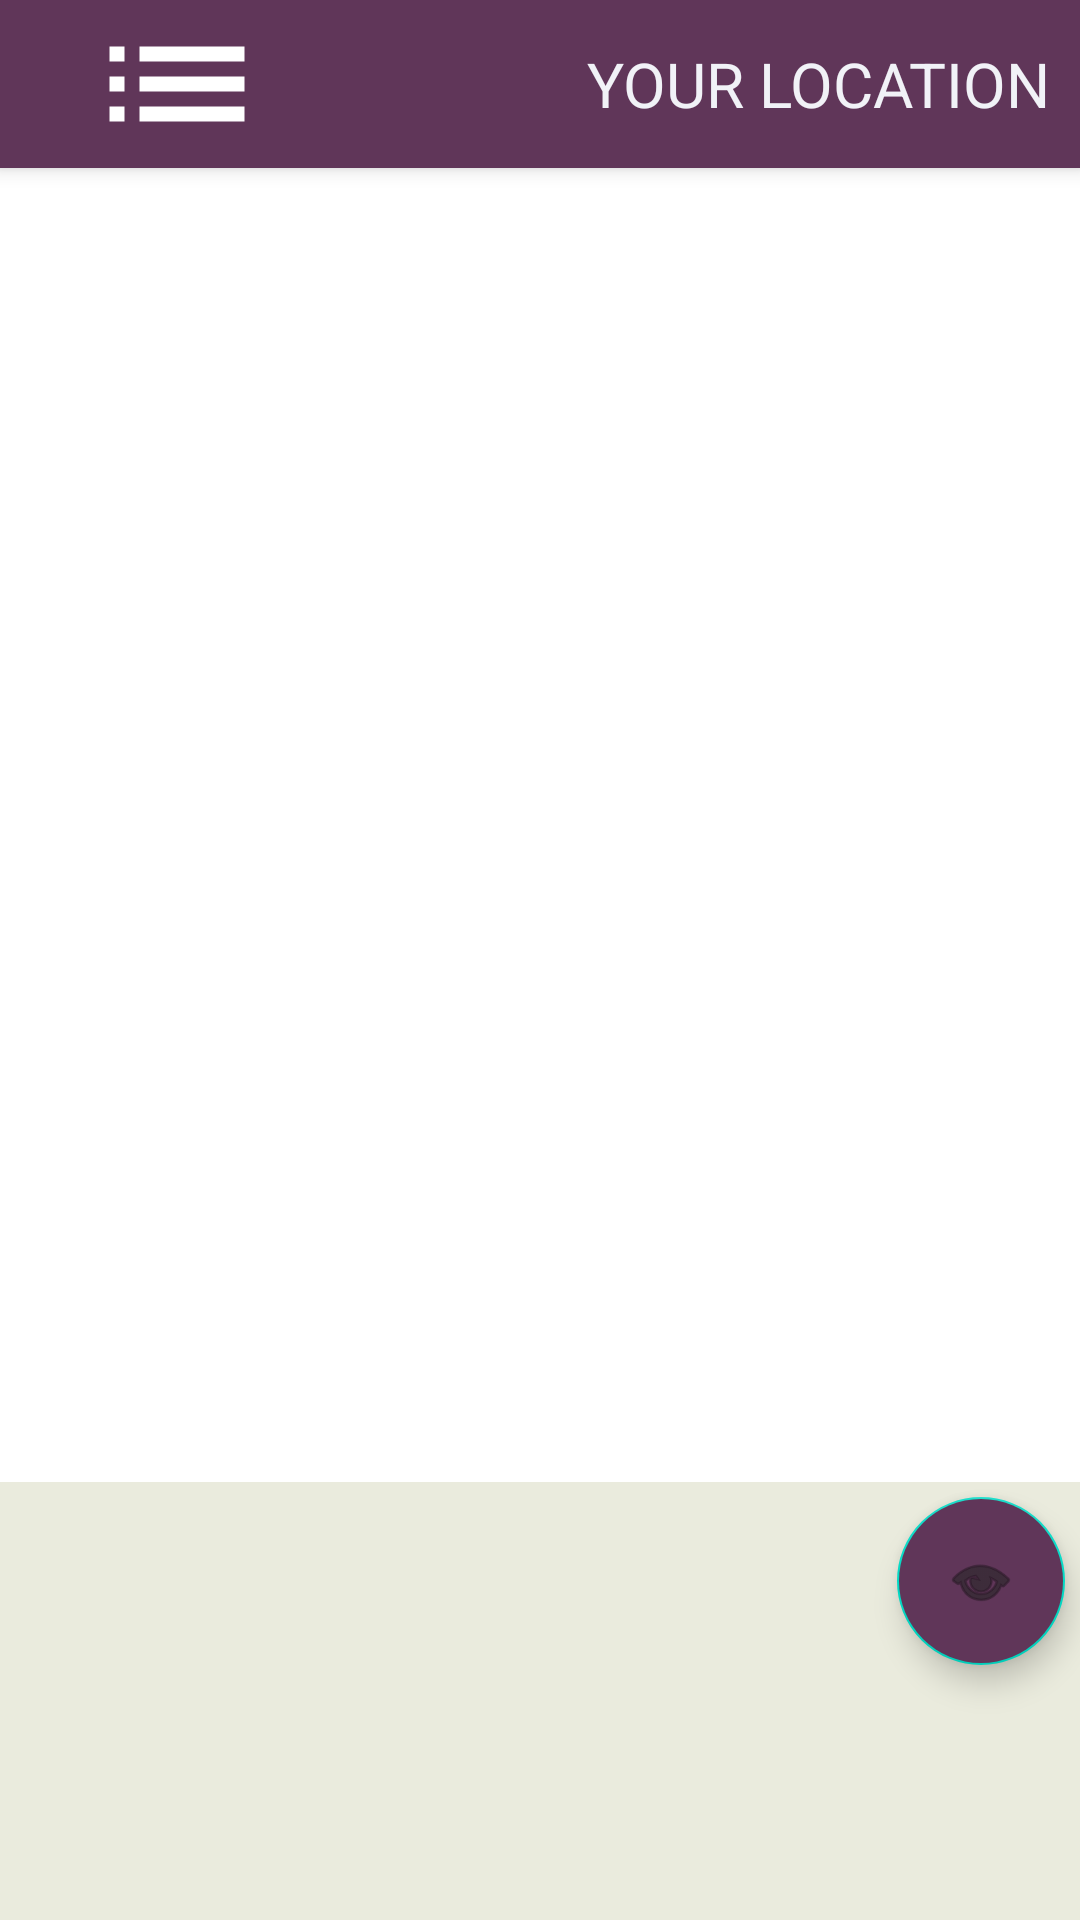

Screen size 1080 x 1920. Icon name, then its center in pixels as [x,y]:
list: [177,84]
view: [981,1581]
